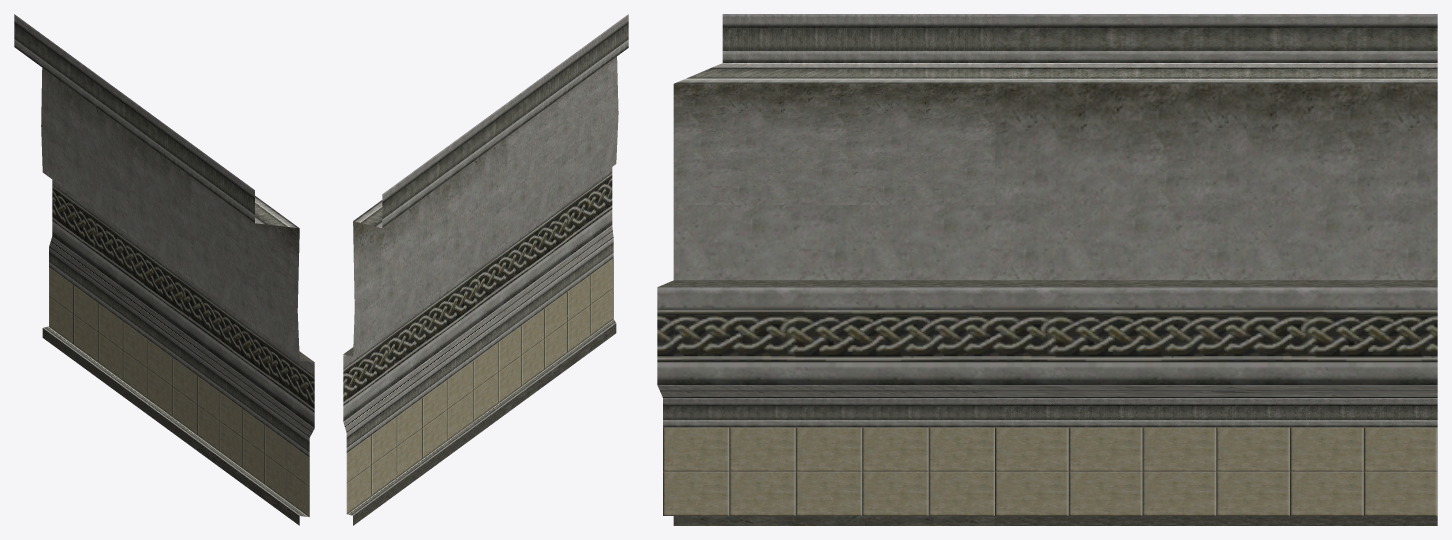
Rendered from DWARF_PALACE_ARKSTONE_ROOM_BACKWALLB01.fbx.
3 views of the same model, side by side, from view 1: azimuth 30°, elevation 25°; view 2: azimuth 150°, elevation 25°; view 3: azimuth 270°, elevation 25° (orthographic). The views are drawn at different scales.
Visible parts, largest first — view 1: DWARF_PALACE_ARKSTONE_ROOM_BACKWALLB01; view 2: DWARF_PALACE_ARKSTONE_ROOM_BACKWALLB01; view 3: DWARF_PALACE_ARKSTONE_ROOM_BACKWALLB01.
Boxes of the visible parts, x1=… form: DWARF_PALACE_ARKSTONE_ROOM_BACKWALLB01: x1=14, y1=14, x2=314, y2=525; DWARF_PALACE_ARKSTONE_ROOM_BACKWALLB01: x1=343, y1=14, x2=628, y2=525; DWARF_PALACE_ARKSTONE_ROOM_BACKWALLB01: x1=657, y1=14, x2=1437, y2=525.
Size of the model in its own units: 12004 by 100000 by 143867.
6 materials, 6 textured.
